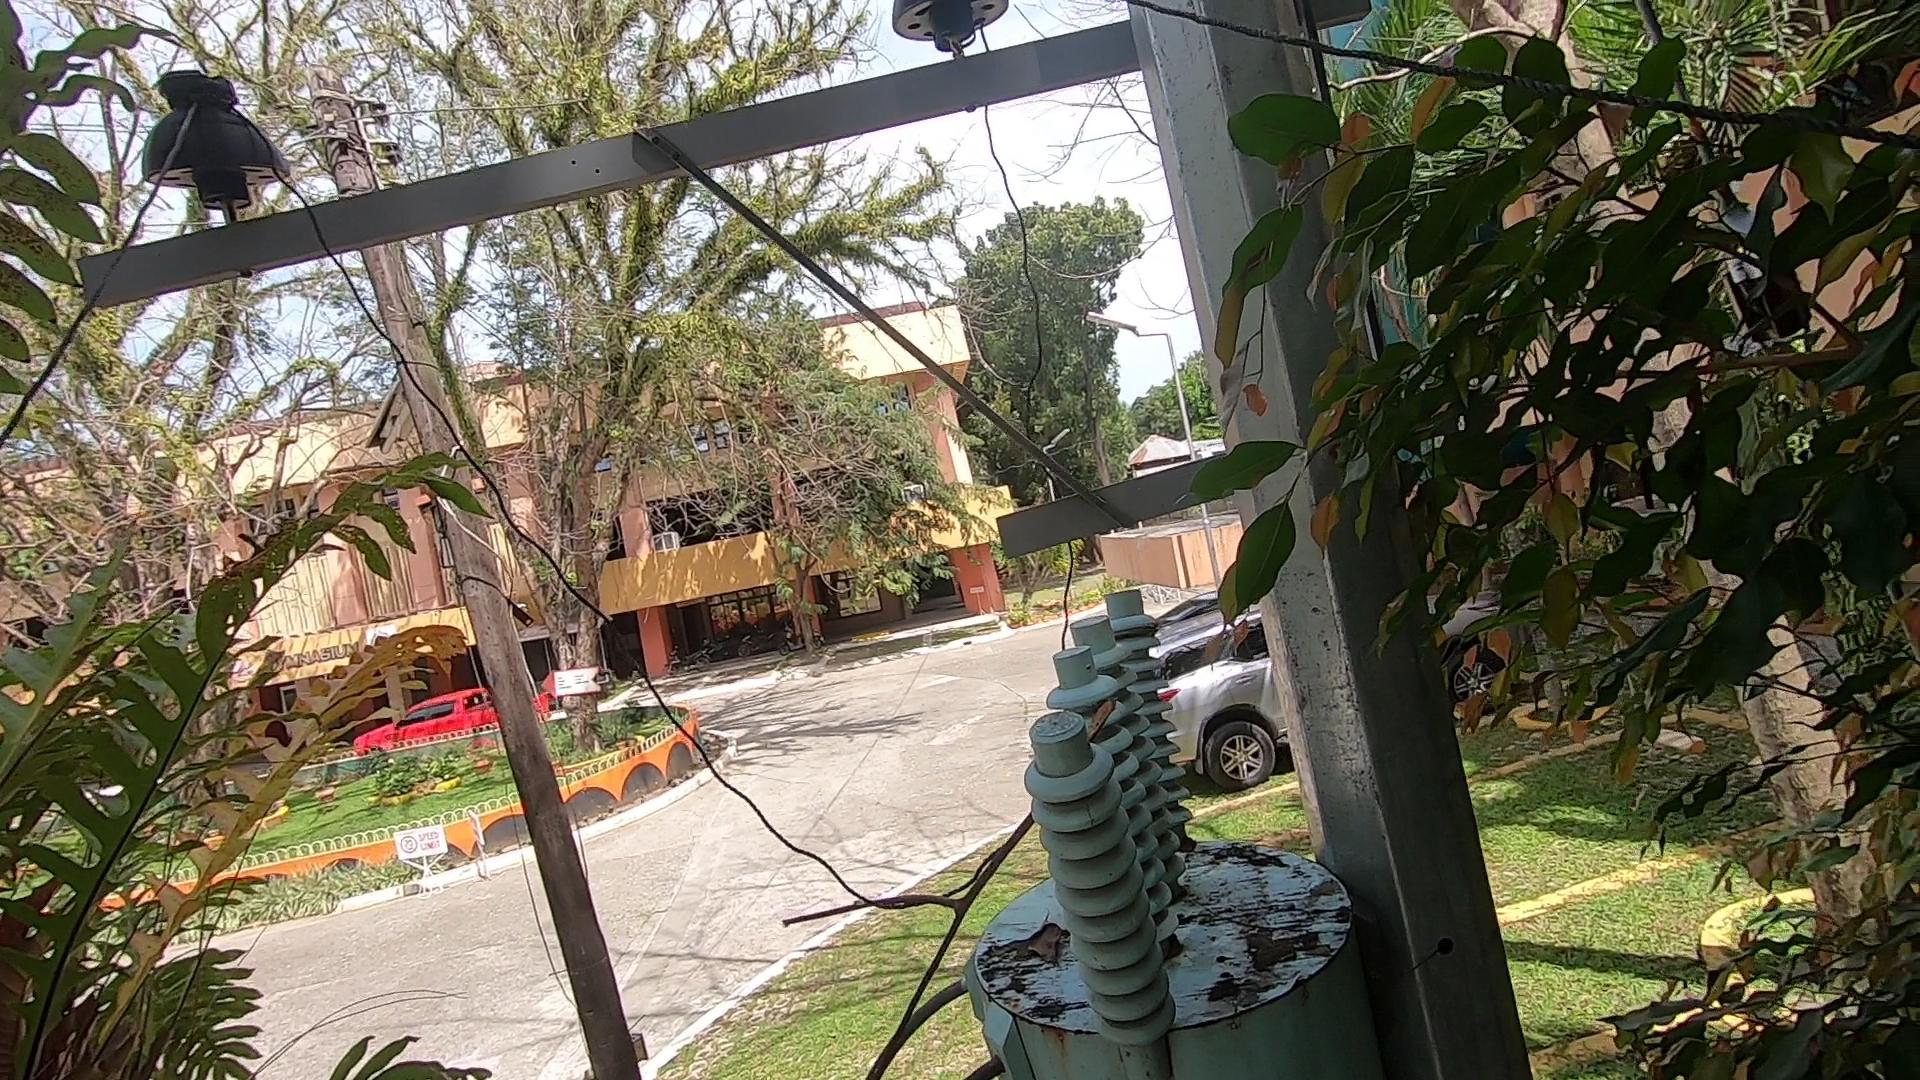leaf: (988, 899, 1069, 975)
tree branch: (749, 694, 1138, 1075)
